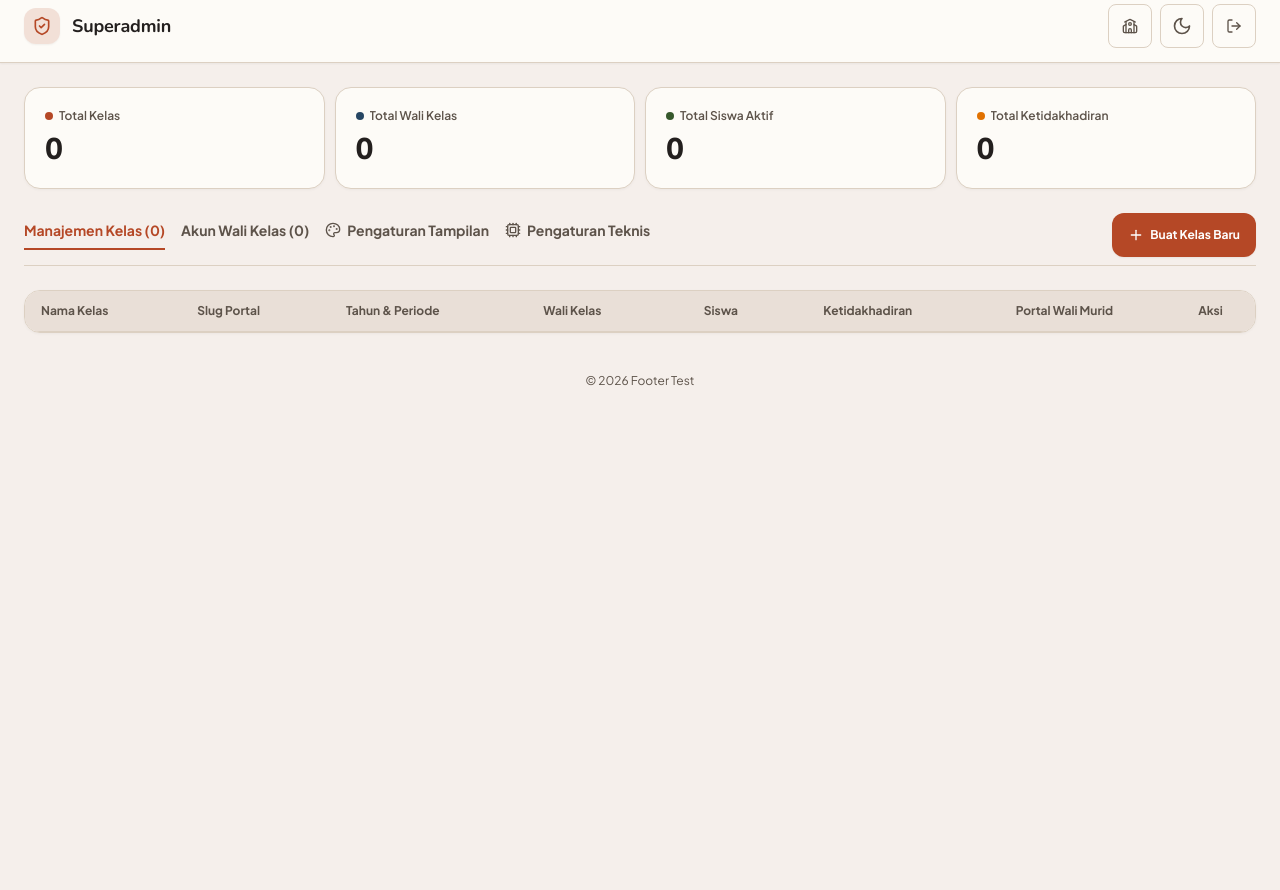
Redis Cache Server UI in Database Subtab › should reveal configuration fields and status bar when toggle is clicked to enable
Click the button "Pengaturan Teknis": (578, 235) [505,220,650,250]
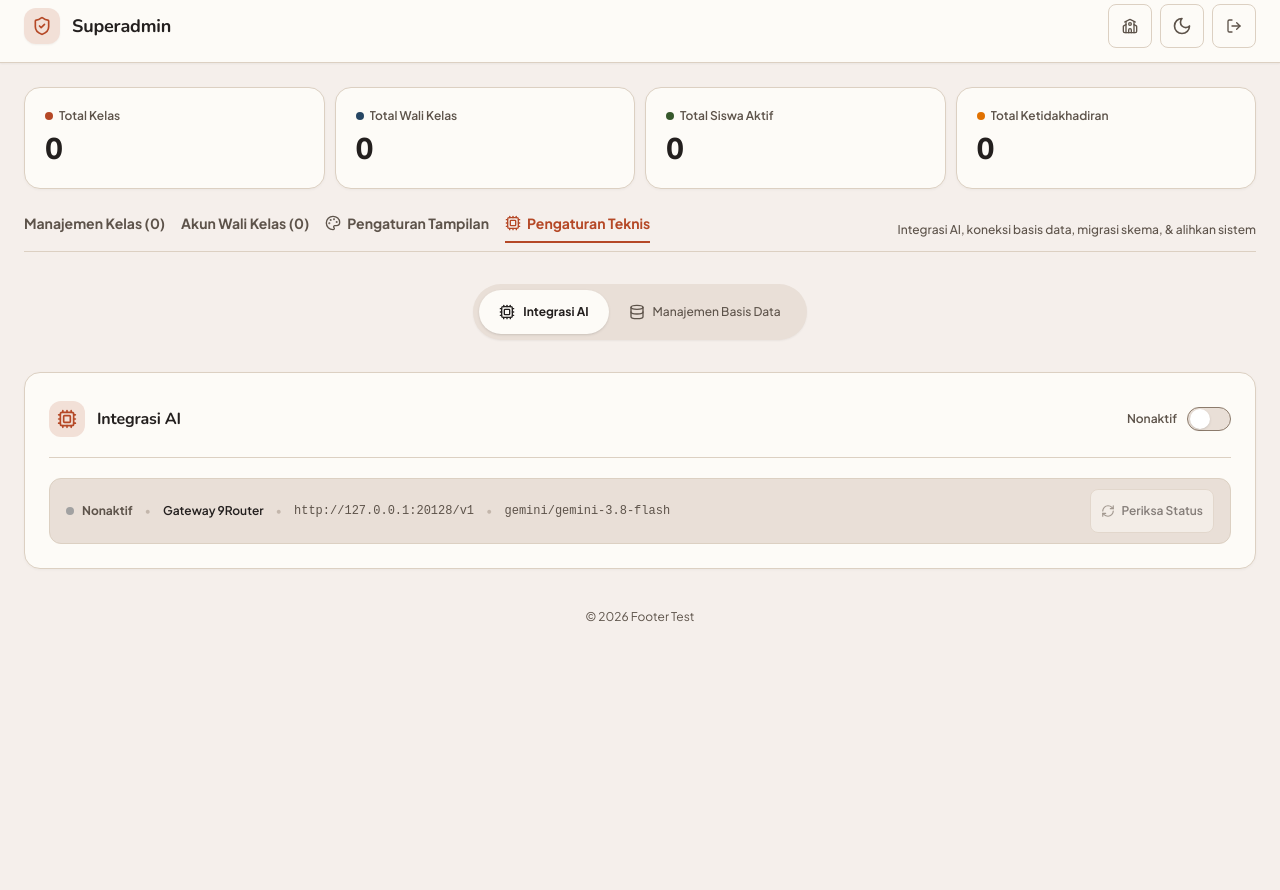
Click the tab "Manajemen Basis Data": (705, 312) [608,290,801,334]
(page scrolled)
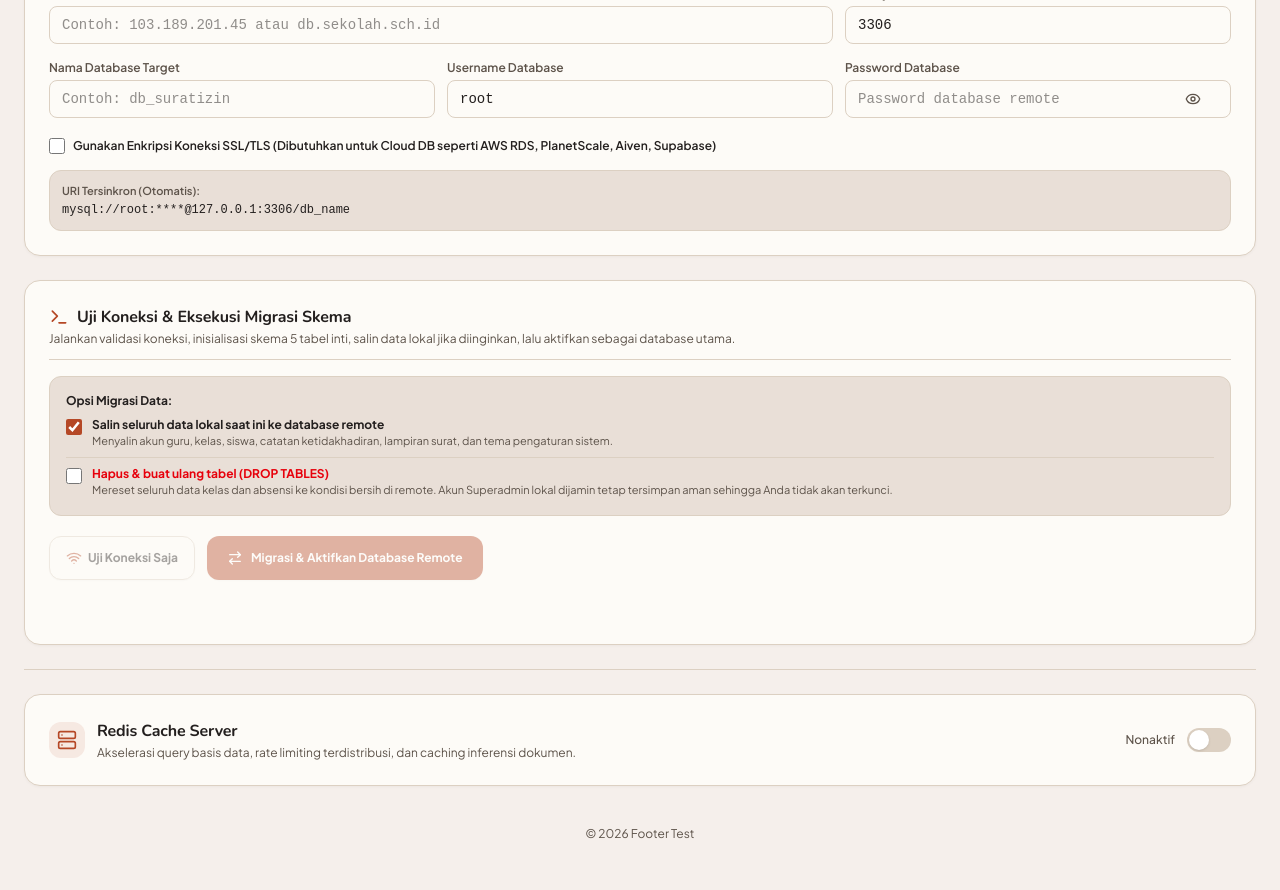
Click the switch named "Toggle Redis Cache": (1209, 740) [1187,728,1231,752]
(page scrolled)
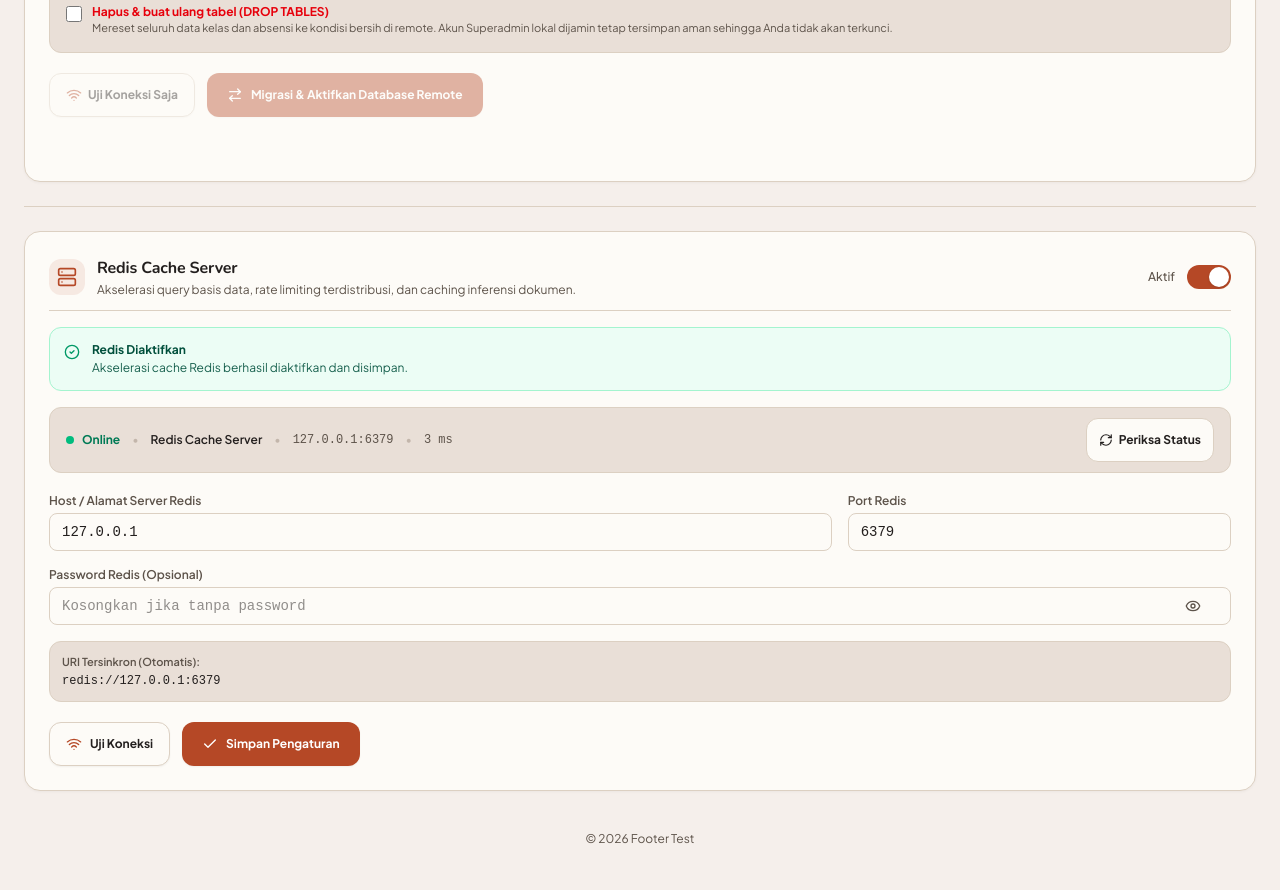
expect the field labelled "Host / Alamat Server Redis" holds "127.0.0.1": met, box [49,513,832,551]
expect the field labelled "Port Redis" holds "6379": met, box [848,513,1231,551]
expect the password field labelled "Password Redis (Opsional)" is empty: met, box [49,587,1231,625]
